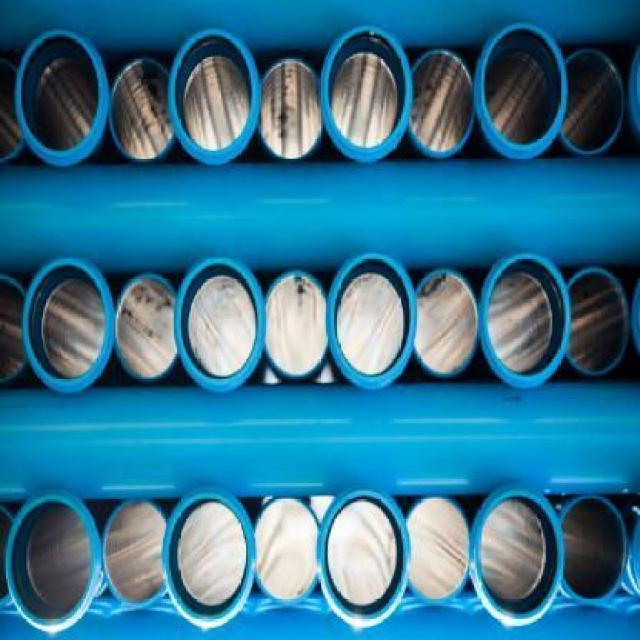pipe: (163, 486, 256, 625), (317, 488, 412, 624), (5, 495, 96, 631), (323, 25, 414, 158), (328, 252, 419, 383), (174, 259, 265, 388), (483, 251, 571, 384), (171, 28, 259, 159), (480, 22, 568, 153), (476, 488, 562, 622), (16, 30, 105, 159), (23, 257, 109, 390), (563, 494, 631, 602), (409, 50, 477, 156), (256, 497, 322, 606), (102, 497, 168, 606), (413, 268, 479, 376), (110, 57, 179, 160), (263, 270, 328, 379), (563, 268, 628, 376), (405, 499, 473, 602), (560, 48, 625, 153), (115, 273, 177, 379), (259, 60, 324, 159)
